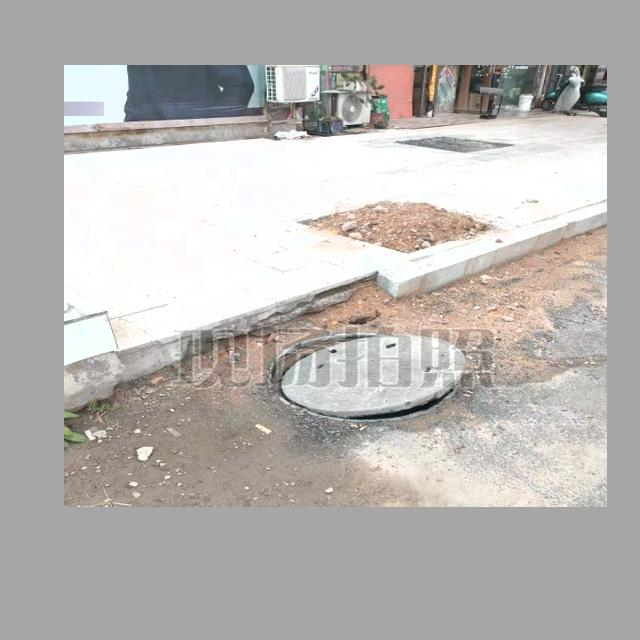uncovered: (266, 331, 464, 422)
